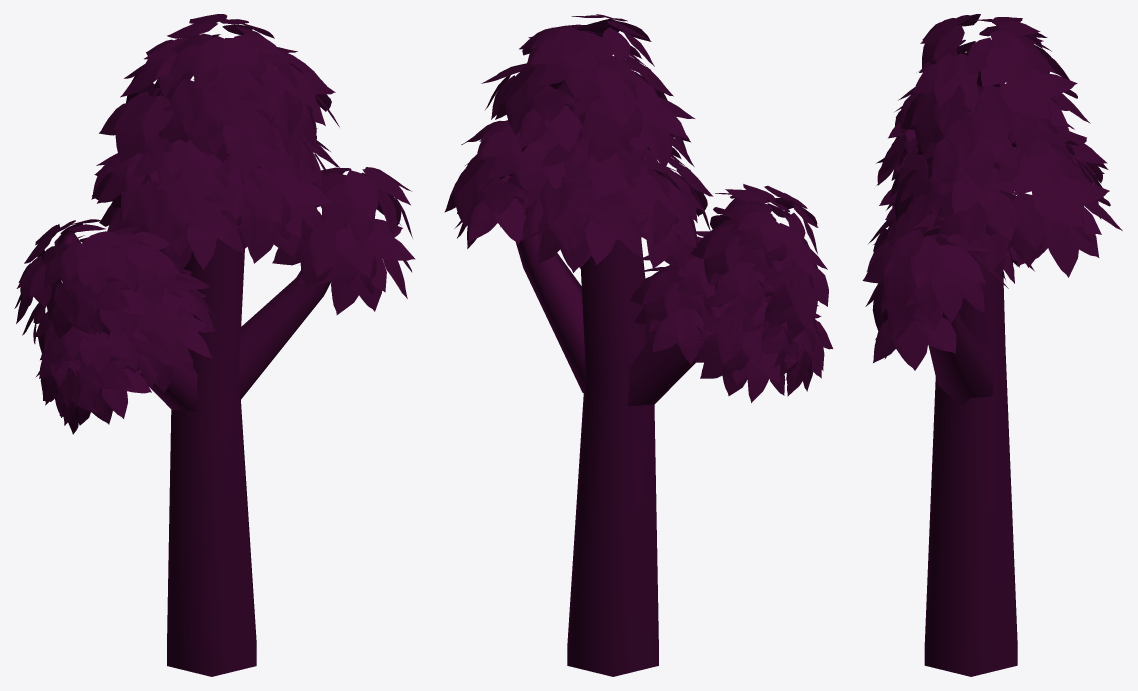
Rendered from Tree_20.fbx.
3 views of the same model, side by side, from view 1: azimuth 30°, elevation 25°; view 2: azimuth 150°, elevation 25°; view 3: azimuth 270°, elevation 25° (orthographic). The views are drawn at different scales.
Visible parts, largest first — view 1: tree_lvy; view 2: tree_lvy; view 3: tree_lvy.
Boxes of the visible parts, x1,y1,x2,y2 form: tree_lvy: (14, 14, 415, 676); tree_lvy: (444, 14, 832, 676); tree_lvy: (862, 14, 1122, 676).
Size of the model in its own units: 397 by 620 by 229.
